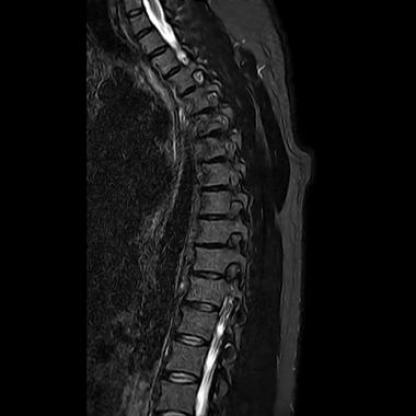Disc Protrusionrotation: (181, 87, 224, 114), (198, 127, 231, 142)
